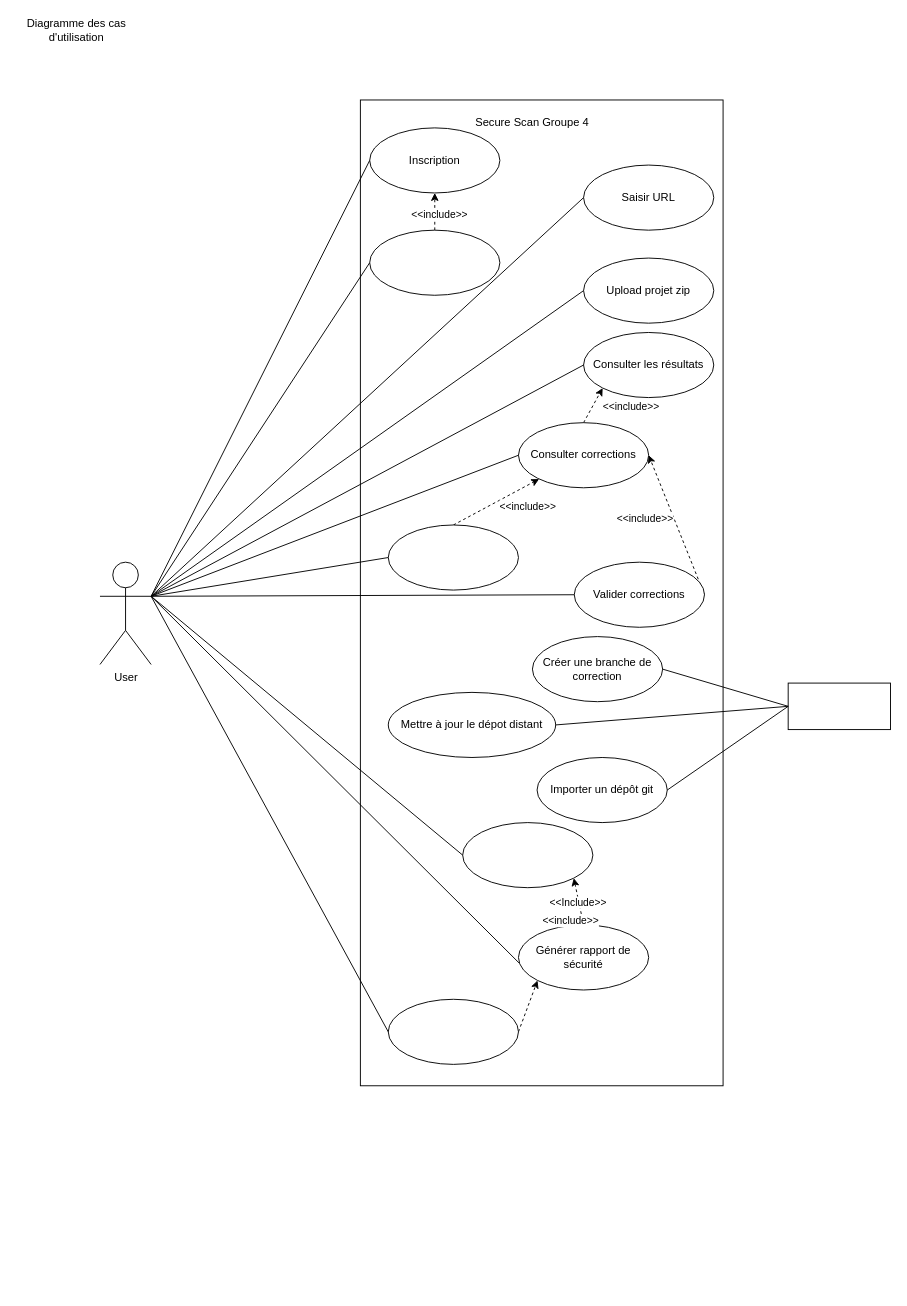
Some shapes in this 907 by 1306 pixel diagram are drawn without their labels. Each missing label, with the centre of its shape:
"<<actor>> Git API" belongs at (x=838, y=706).
"Connexion" belongs at (x=434, y=262).
"Lancer l'analyse" belongs at (x=527, y=855).
"Rejeter corrections" belongs at (x=452, y=557).
"Télécharger rapport de securité" belongs at (x=452, y=1031).
